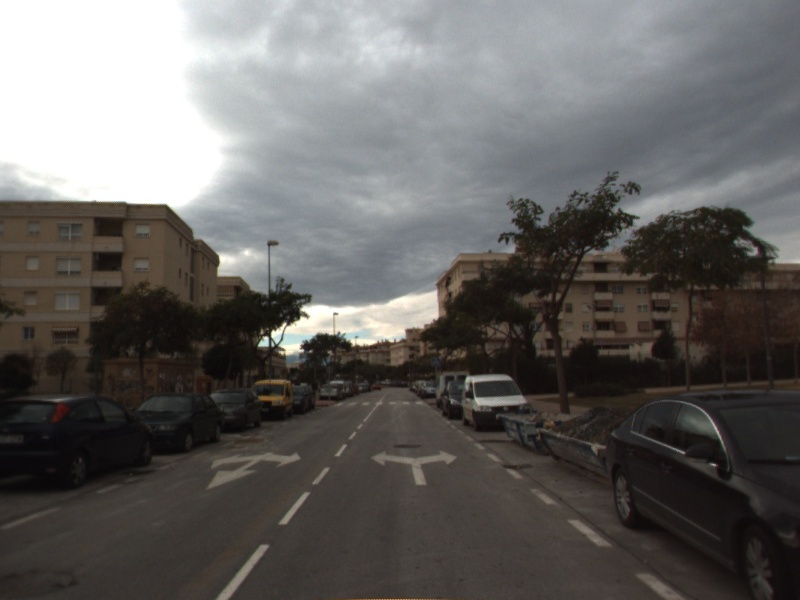LEFT_RIGHT: (368, 448, 459, 487)
